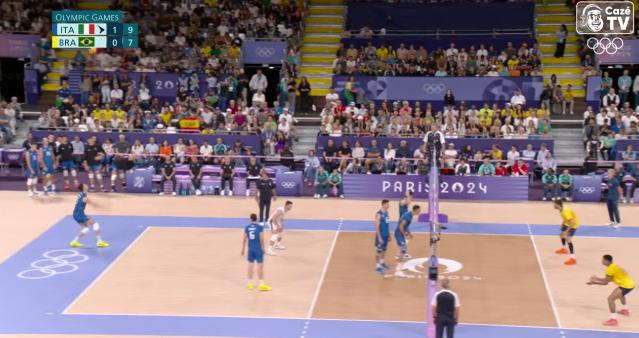Levantador: (245, 214, 267, 288)
Libero: (266, 200, 294, 249)
bola: (90, 49, 96, 56)
